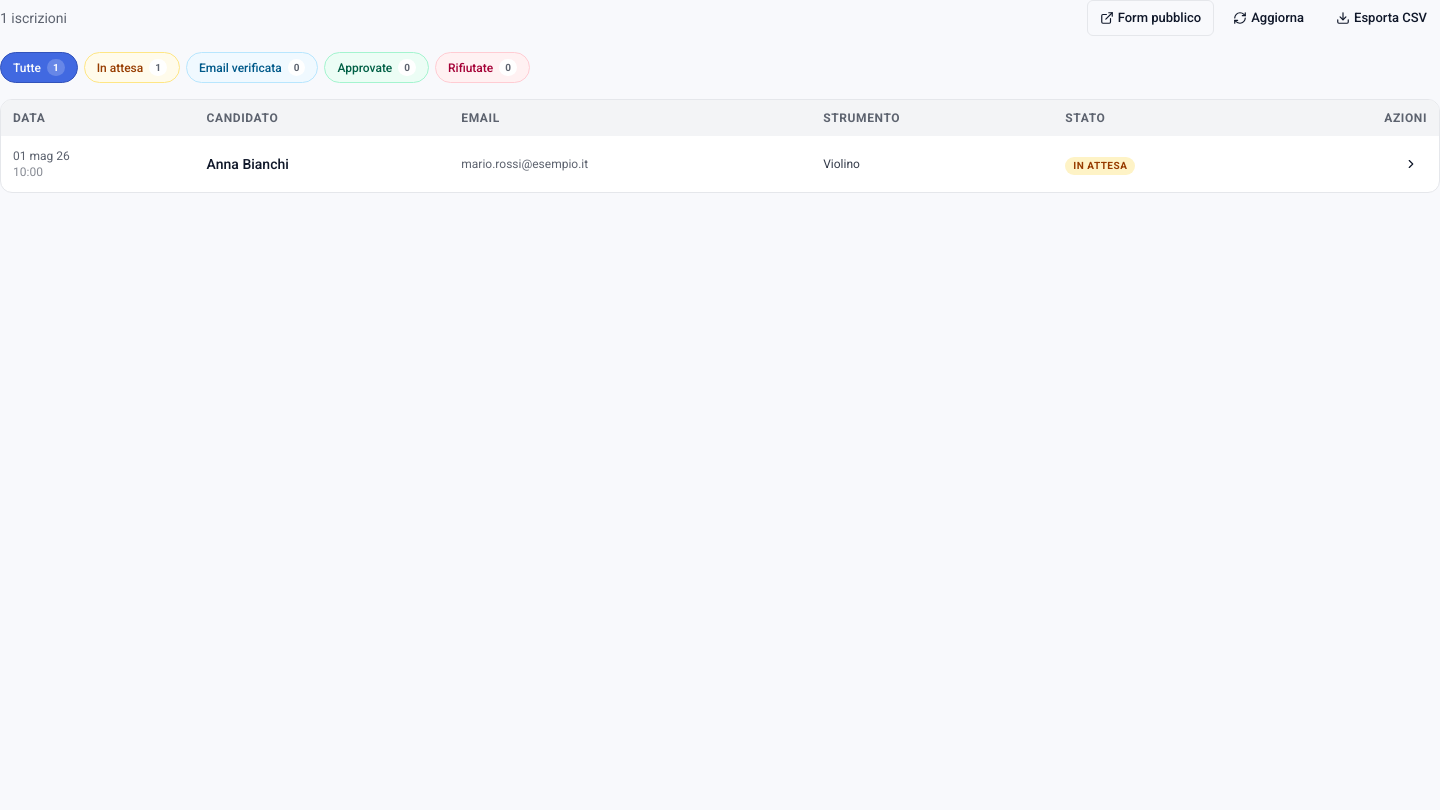
Test: IscrizioniTab › shows an error and does not mark approved when the approve endpoint fails
Click the text "Anna Bianchi".
click(41, 156)  # box [1,136,1439,192]
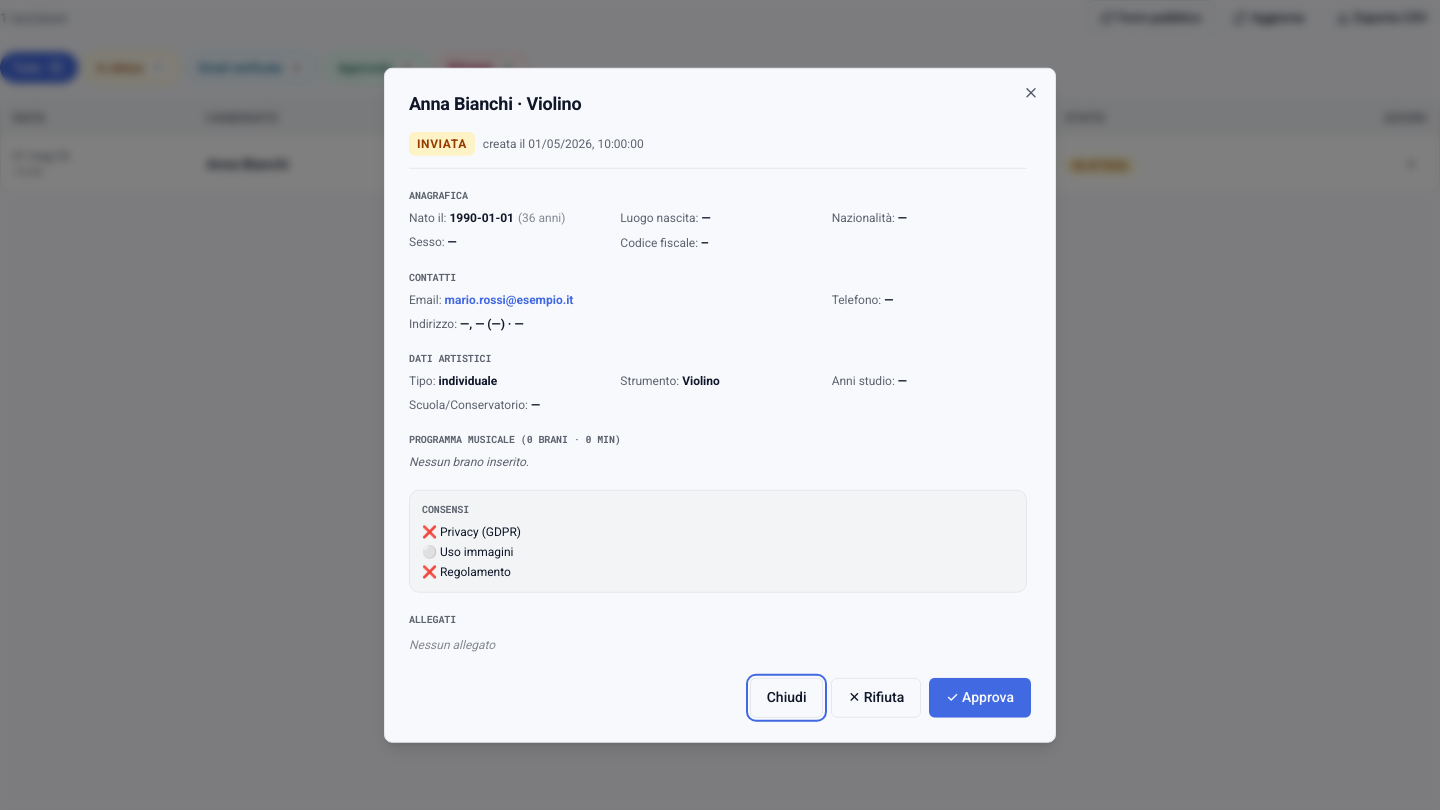
Click the button "✓ Approva".
click(980, 697)  # box [929,677,1031,717]
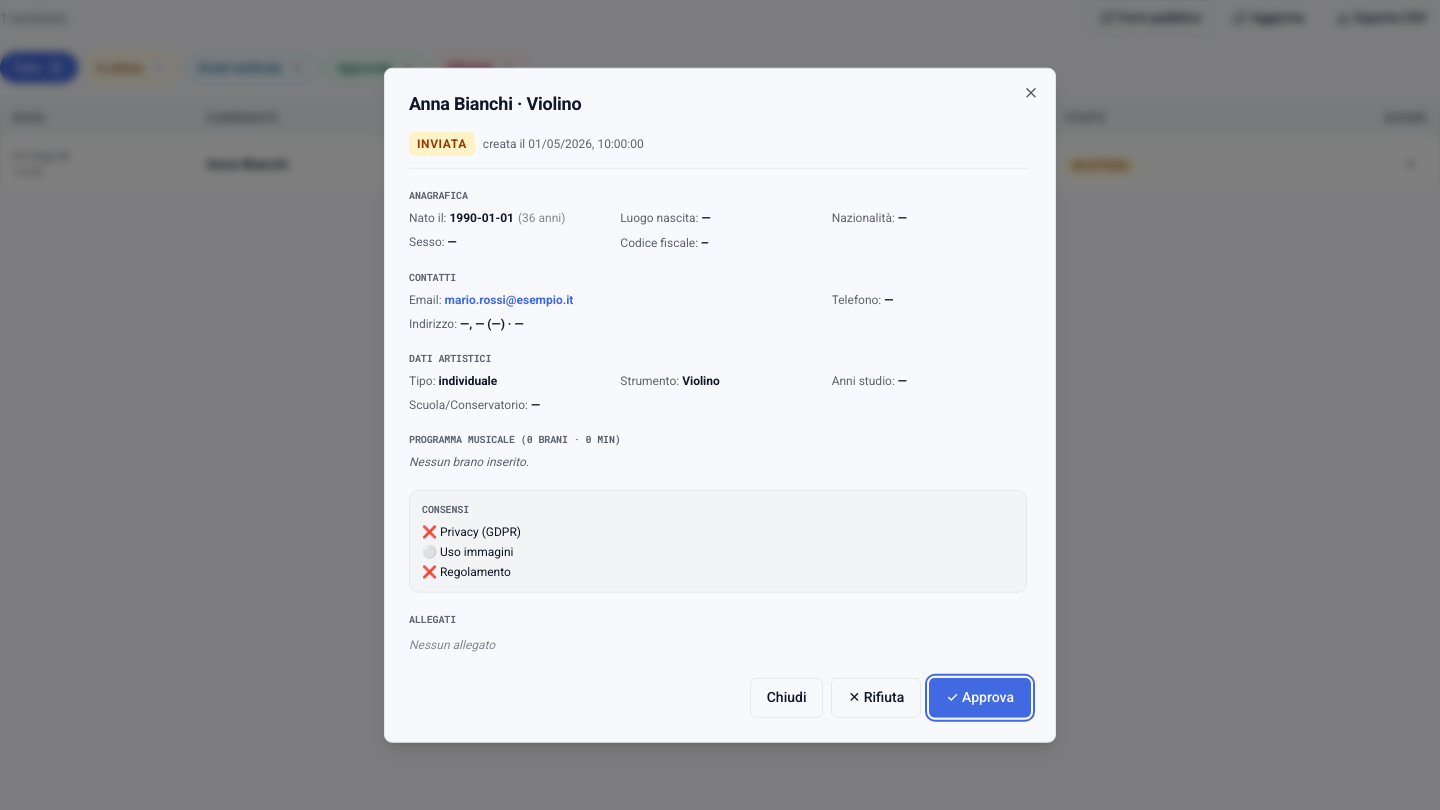
expect the dialog is shown: met, box [384,68,1056,742]
Press Escape
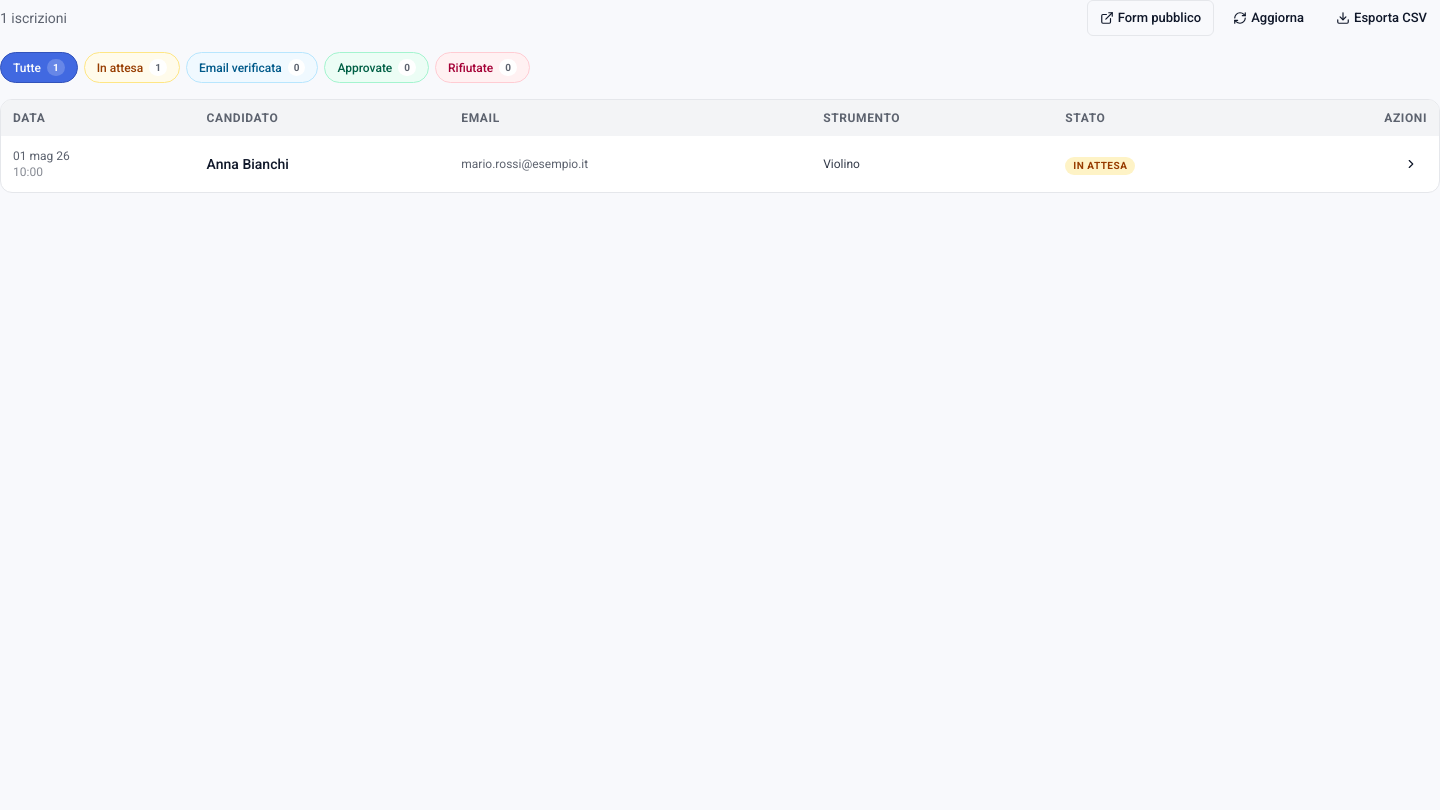
expect the text "In attesa" in the row of "01 mag 26" is shown: met, box [1073,160,1127,171]
expect the dialog is gone: met
